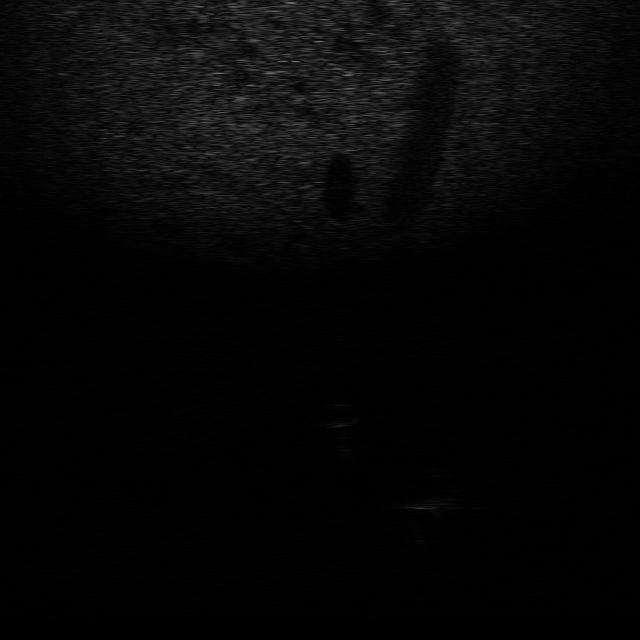ball: (314, 395, 364, 431)
tyre: (389, 466, 465, 514)
